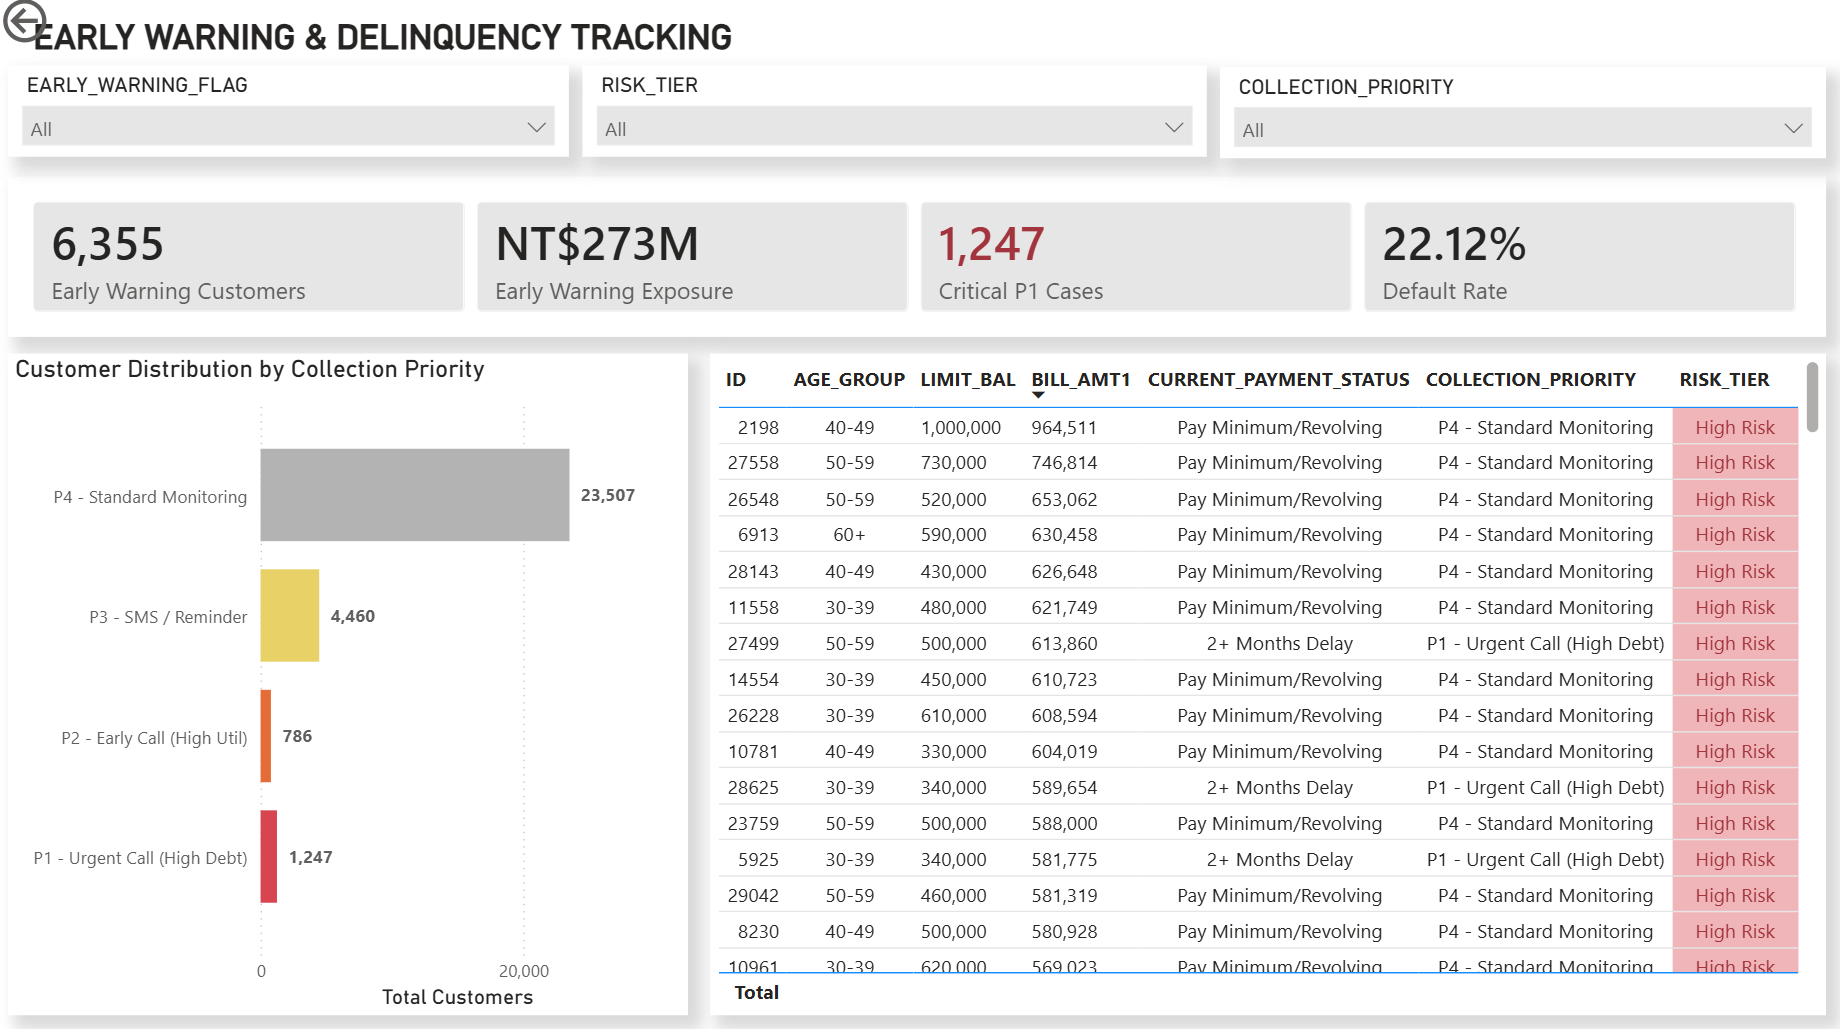

This screenshot's page, from the dashboard's own definition file:
{"tool":"powerbi","page":{"name":"Early Warning Tracker","canvas":[1280,720],"ordinal":2},"visuals":[{"type":"textbox","box":[20.8,11.5,708,39.6],"z":0},{"type":"cardVisual","fields":{"Data":["credit_card_features.Early Warning Customers","credit_card_features.Early Warning Exposure","credit_card_features.Critical P1 Cases","credit_card_features.Default Rate"]},"box":[8.3,128.1,1262,111.4],"z":1000},{"type":"slicer","fields":{"Values":["credit_card_features.EARLY_WARNING_FLAG"]},"box":[8.3,51,389.4,63.5],"z":2000},{"type":"slicer","fields":{"Values":["credit_card_features.RISK_TIER"]},"box":[407.1,51,433.1,63.5],"z":3000},{"type":"slicer","fields":{"Values":["credit_card_features.COLLECTION_PRIORITY"]},"box":[849.6,52.1,420.7,63.5],"z":4000},{"type":"clusteredBarChart","title":"Customer Distribution by Collection Priority","fields":{"Category":["credit_card_features.COLLECTION_PRIORITY"],"Y":["credit_card_features.Total Customers"]},"box":[8.3,250.9,471.7,459.2],"z":5000},{"type":"tableEx","fields":{"Values":["credit_card_features.ID","credit_card_features.AGE_GROUP","credit_card_features.LIMIT_BAL","credit_card_features.BILL_AMT1","credit_card_features.CURRENT_PAYMENT_STATUS","credit_card_features.COLLECTION_PRIORITY","credit_card_features.RISK_TIER"]},"box":[495.6,250.9,774.7,459.2],"z":6000},{"type":"actionButton","box":[0,0,100,40],"z":7000}]}

Visuals, with their boxes in screenshot pixels (x1, y1, x2, y2), scaled from the page's 1280x720 canvas onto the 1840x1029 screenshot:
textbox: bbox=(30, 16, 1048, 73)
cardVisual - credit_card_features.Early Warning Customers x credit_card_features.Early Warning Exposure: bbox=(12, 183, 1826, 342)
slicer - credit_card_features.EARLY_WARNING_FLAG: bbox=(12, 73, 572, 164)
slicer - credit_card_features.RISK_TIER: bbox=(585, 73, 1208, 164)
slicer - credit_card_features.COLLECTION_PRIORITY: bbox=(1221, 74, 1826, 165)
"Customer Distribution by Collection Priority" clusteredBarChart: bbox=(12, 359, 690, 1015)
tableEx - credit_card_features.ID x credit_card_features.AGE_GROUP: bbox=(712, 359, 1826, 1015)
actionButton: bbox=(0, 0, 144, 57)
